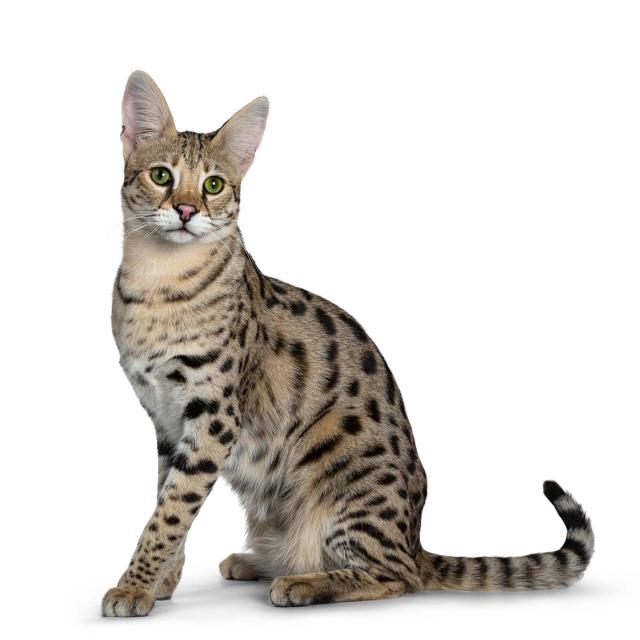Savannah: (93, 65, 601, 626)
